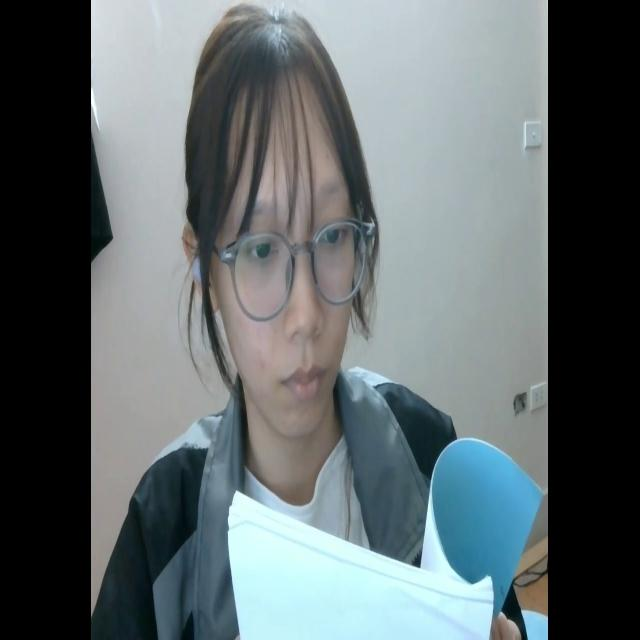book: (226, 430, 542, 640)
student: (104, 6, 528, 640)
